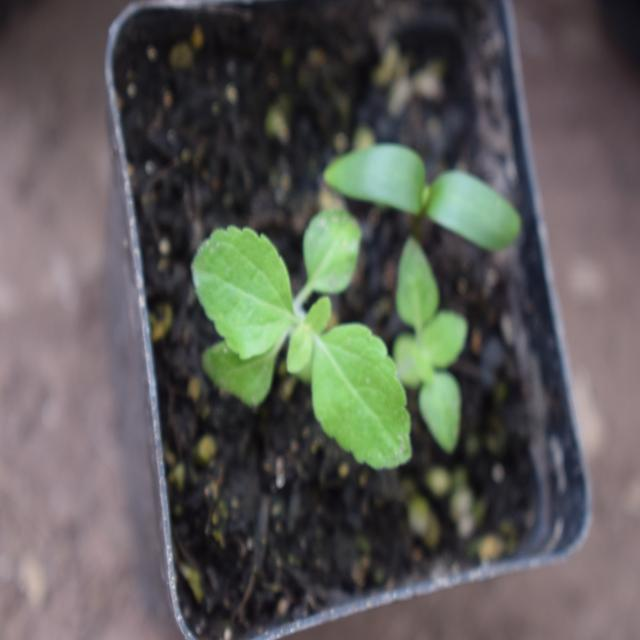billygoat_weed: (186, 203, 417, 494)
